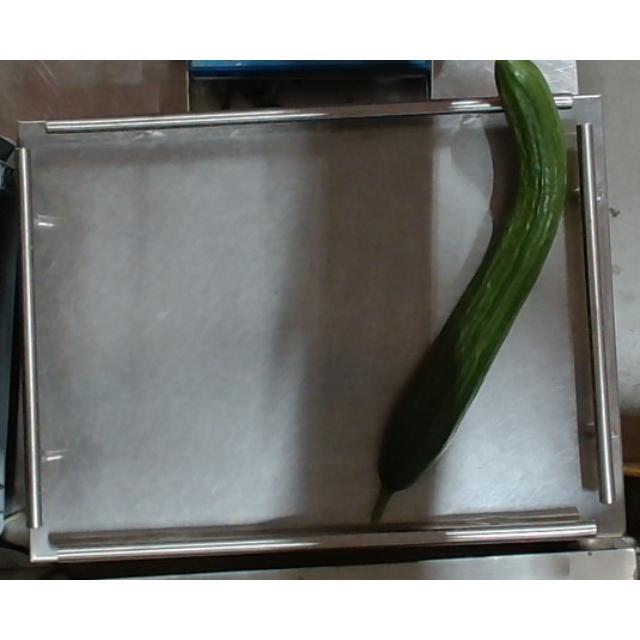cucumber: (372, 64, 576, 492)
